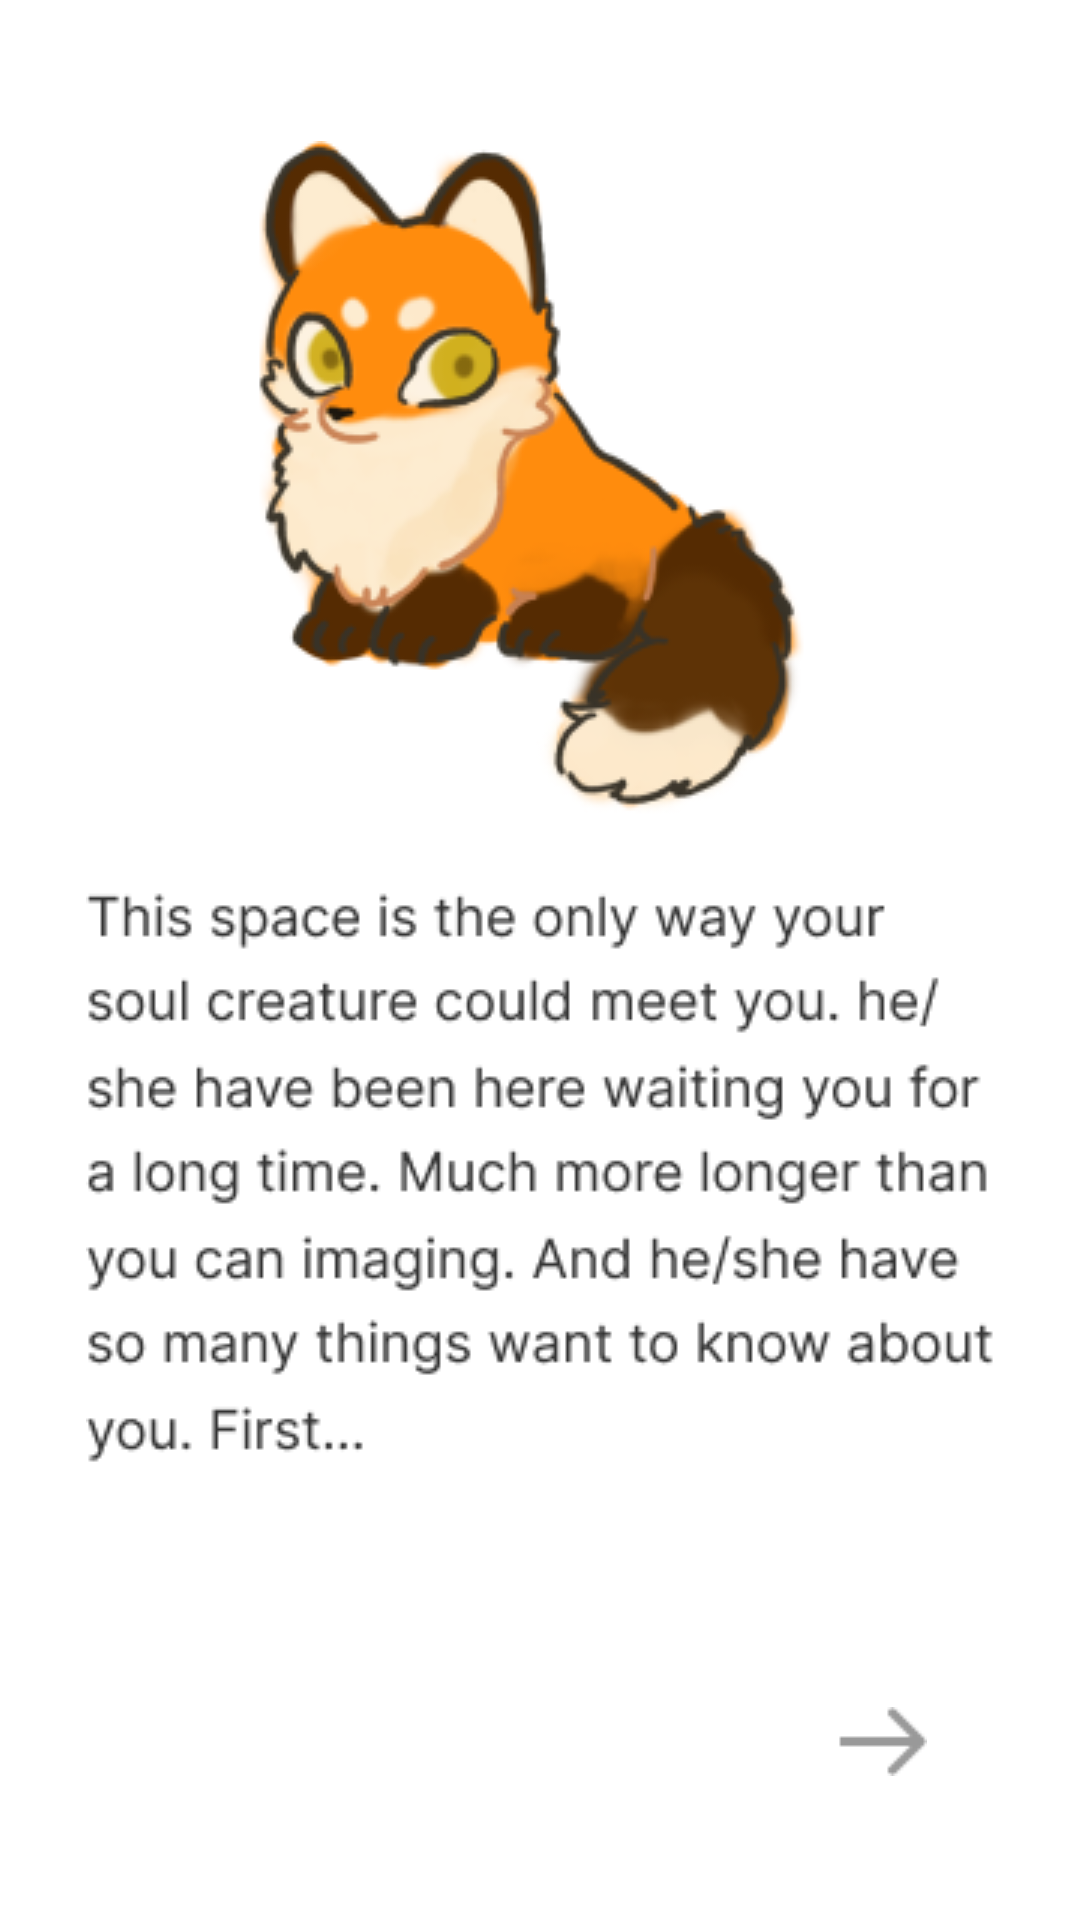

Icon click points for this 1080*1920 phone screenshot, format (x=x, y=y):
page arrow: (x=883, y=1741)
